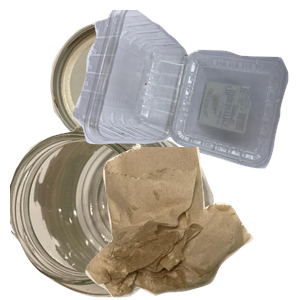glass: (10, 126, 216, 300)
metal: (47, 16, 214, 157)
plastic: (70, 10, 300, 171)
trash: (83, 147, 300, 300)
